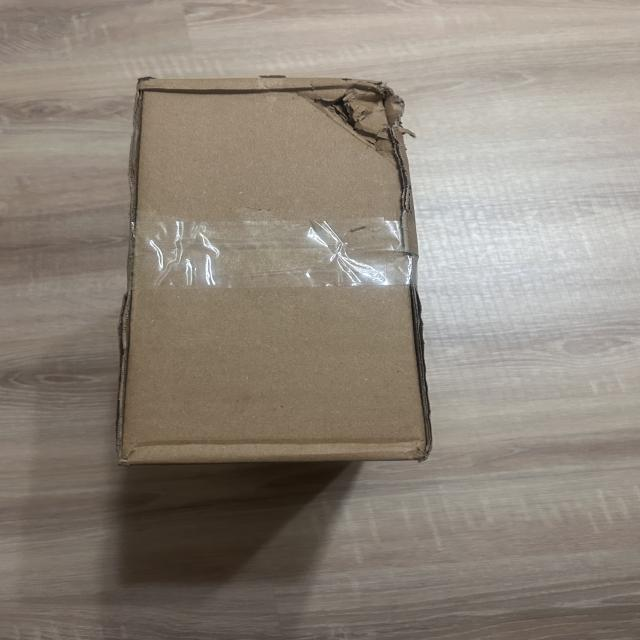damaged: (104, 70, 441, 467), (285, 65, 425, 172)
